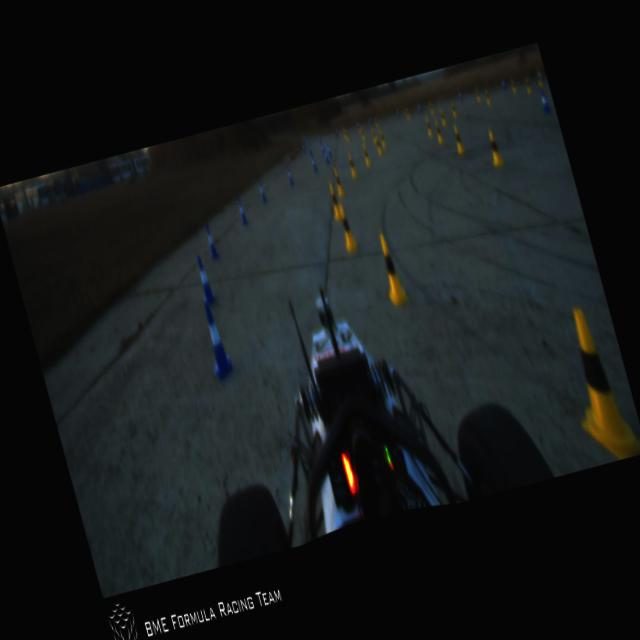blue_cone: (198, 304, 235, 380), (191, 252, 217, 306), (202, 224, 220, 261), (537, 87, 551, 114), (236, 197, 248, 225), (257, 180, 267, 202), (284, 166, 294, 186), (309, 154, 318, 172), (322, 147, 329, 164), (325, 141, 332, 157), (500, 77, 506, 90), (316, 132, 322, 144), (301, 142, 306, 153), (334, 126, 339, 136), (417, 102, 422, 112), (458, 89, 462, 100), (395, 107, 399, 116), (368, 116, 372, 124)
yellow_cone: (551, 299, 640, 466), (371, 228, 409, 306), (333, 200, 358, 251), (484, 128, 504, 167), (326, 180, 344, 218), (449, 122, 466, 156), (332, 167, 346, 197), (346, 152, 358, 178), (433, 120, 445, 144), (361, 144, 372, 168), (373, 134, 383, 156), (424, 119, 434, 138), (448, 100, 458, 119), (378, 128, 387, 148), (438, 108, 447, 127), (483, 87, 492, 106), (473, 84, 482, 103), (524, 76, 532, 95), (509, 75, 517, 93), (359, 127, 366, 143), (428, 100, 435, 116), (372, 115, 380, 128), (404, 106, 411, 120), (536, 72, 542, 86), (343, 128, 349, 142), (371, 128, 376, 144), (356, 124, 361, 134), (342, 127, 346, 139)
